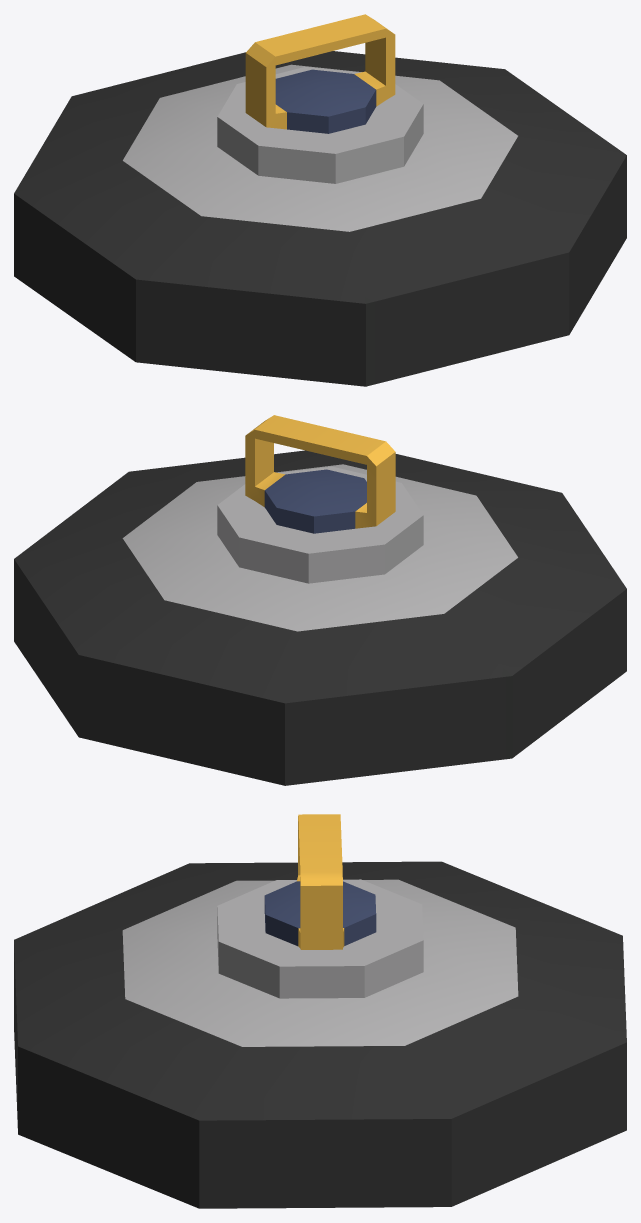
Rendered from Sink_Drain_Plug.fbx.
The picture shows the model from 3 angles, top to bottom: view 1: azimuth 30°, elevation 25°; view 2: azimuth 150°, elevation 25°; view 3: azimuth 270°, elevation 25°; orthographic projection. The views are drawn at different scales.
Visible parts, largest first — view 1: Drain_Plug; view 2: Drain_Plug; view 3: Drain_Plug.
Part boxes in pixels (x1,y1,x2,y2): Drain_Plug: [14, 14, 626, 386]; Drain_Plug: [14, 415, 626, 785]; Drain_Plug: [14, 814, 626, 1208].
Size of the model in its own units: 9.78 by 4.15 by 9.78.
